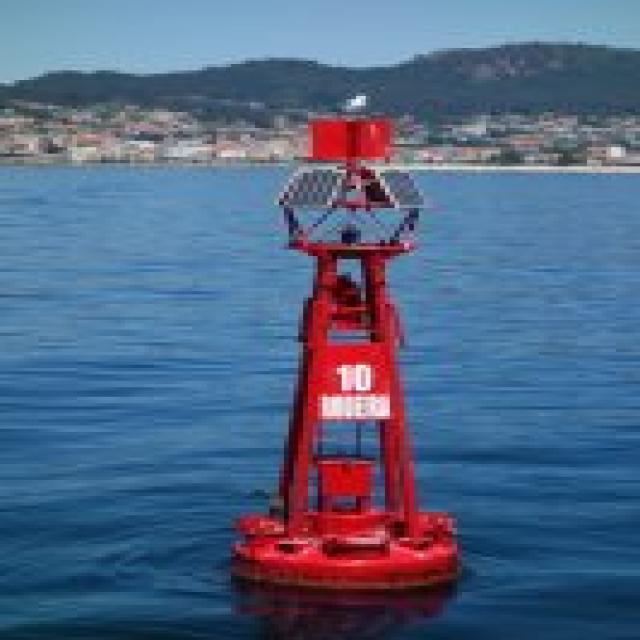buoy: (199, 89, 485, 618)
